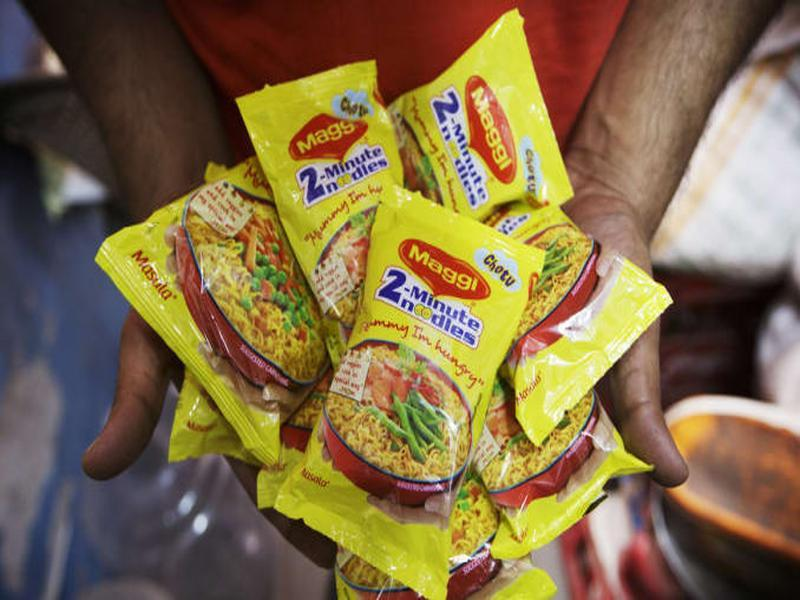maggi-small: (322, 190, 524, 565), (233, 75, 405, 295), (411, 23, 584, 206)
